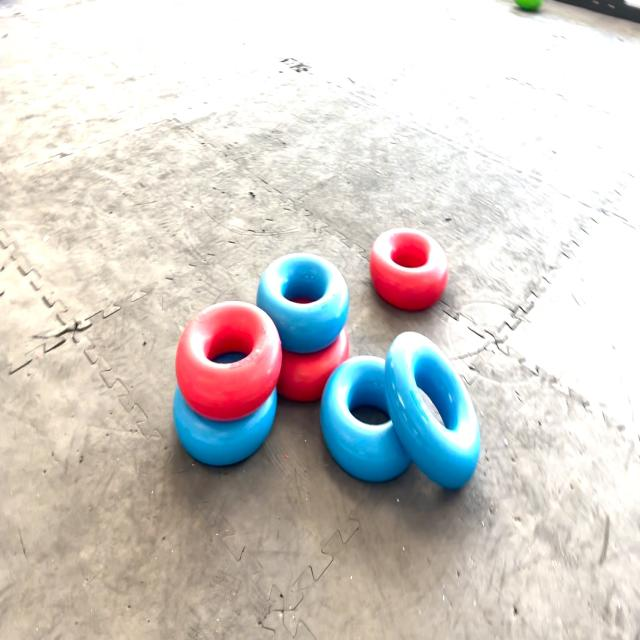Blue-Ring: (385, 331, 480, 489), (320, 356, 410, 482), (256, 253, 349, 353), (174, 387, 278, 467)
Red-Ring: (175, 302, 282, 420), (370, 229, 449, 310), (278, 327, 350, 402)
